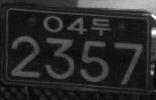0: (43, 14, 63, 33)
2: (11, 35, 40, 77)
3: (45, 36, 74, 80)
4: (66, 17, 87, 34)
5: (79, 40, 109, 83)
7: (113, 41, 143, 84)
두: (91, 17, 111, 35)
